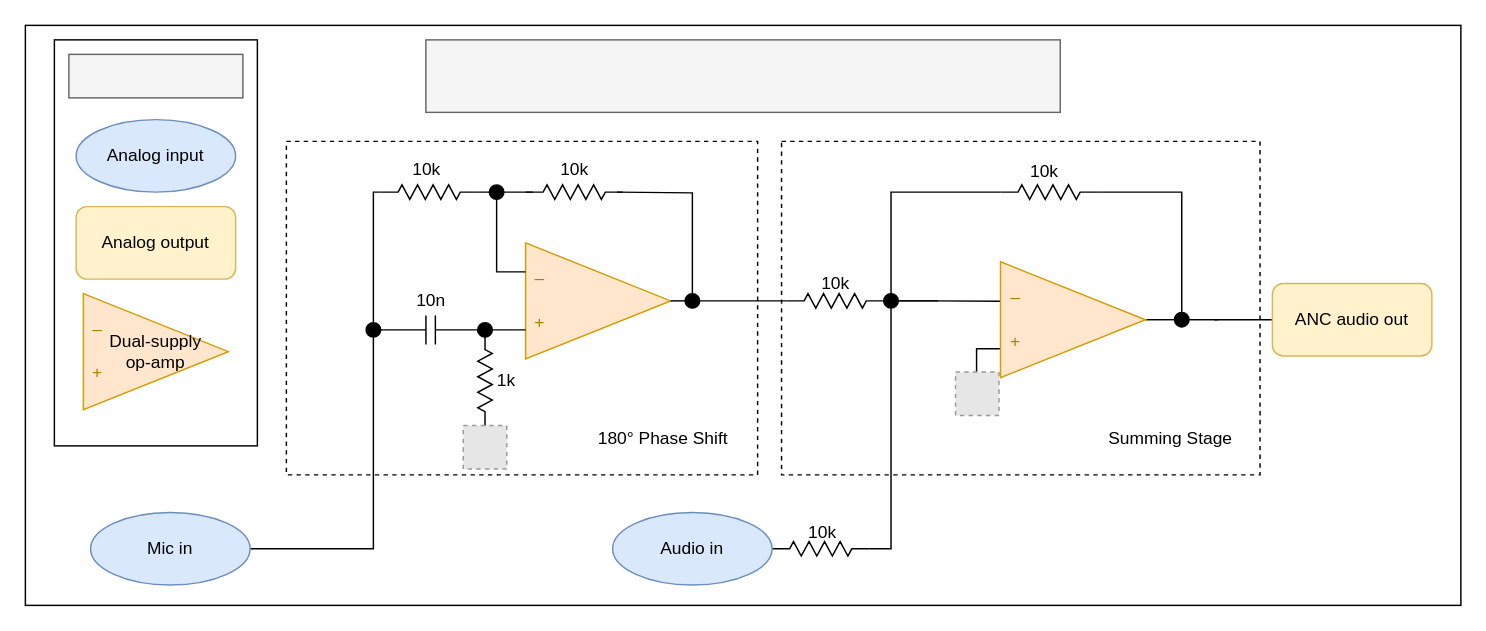
Some shapes in this 1486 by 631 pixel diagram are drawn without their labels. Grey dashed boxes stand in for pictures. The shapes that lost their labels are listed below. From the top down, each one's centre as x and y in pixels, then its label:
the point at 155,75: KEY
the point at 742,75: Analog ANC for One Side of Stereo Audio
